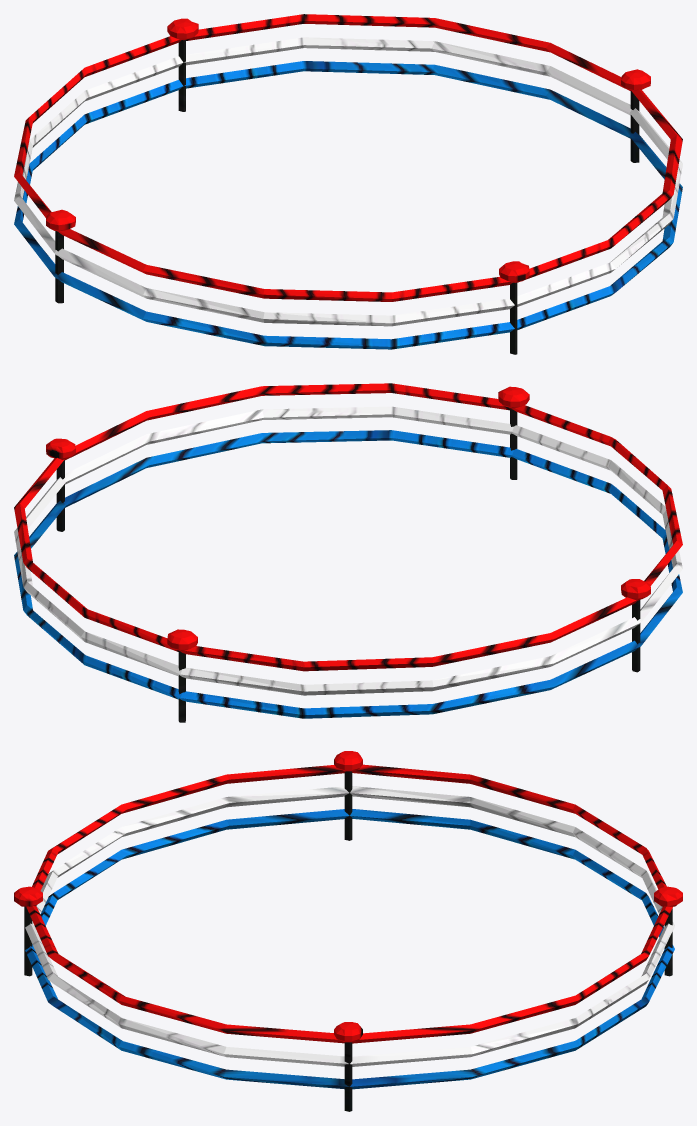
Rendered from ZiraRing.glb.
3 views of the same model, one above another, from view 1: azimuth 30°, elevation 25°; view 2: azimuth 150°, elevation 25°; view 3: azimuth 270°, elevation 25° (orthographic). The views are drawn at different scales.
Visible parts, largest first — view 1: ZiraRing; view 2: ZiraRing; view 3: ZiraRing.
Boxes of the visible parts, x1,y1,x2,y2 form: ZiraRing: (14, 14, 682, 354); ZiraRing: (14, 383, 682, 722); ZiraRing: (14, 751, 682, 1111).
Size of the model in its own units: 397 by 55.73 by 396.
Materials: 1 (1 with a texture image).
